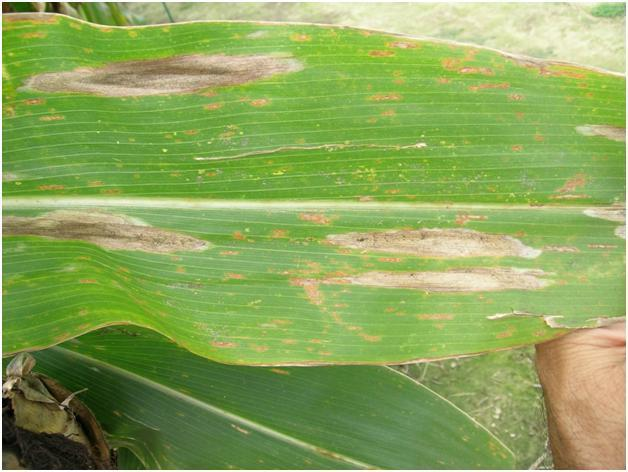Corn_Blight: (304, 186, 564, 308), (367, 24, 614, 109), (17, 48, 324, 112), (8, 197, 224, 268), (200, 327, 302, 357), (8, 12, 99, 42), (566, 116, 628, 152), (588, 199, 627, 253)
